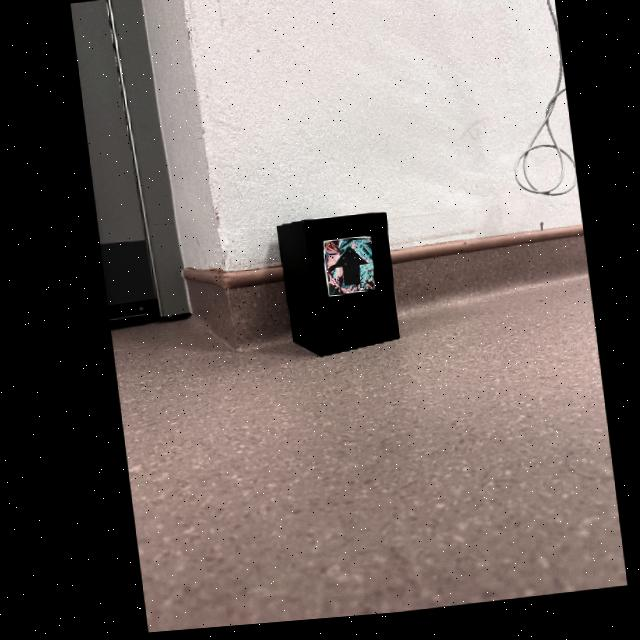UP: (328, 252, 362, 291)
